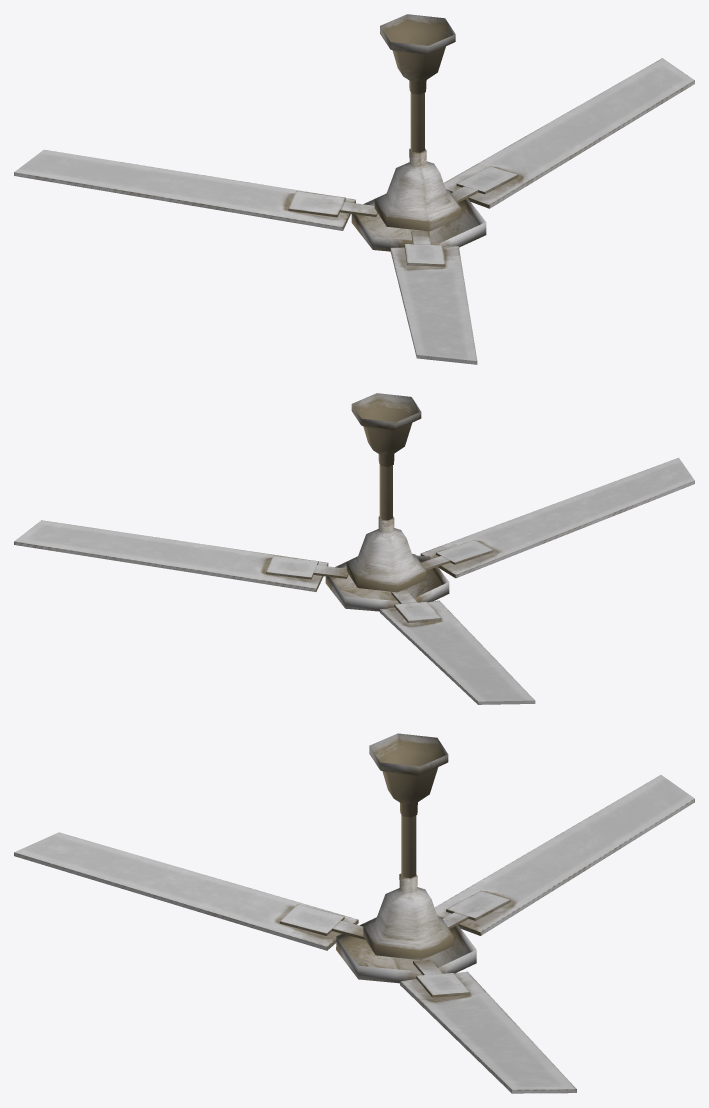
Rendered from Kipas_atap.fbx.
3 views of the same model, one above another, from view 1: azimuth 30°, elevation 25°; view 2: azimuth 150°, elevation 25°; view 3: azimuth 270°, elevation 25° (orthographic). The views are drawn at different scales.
Visible parts, largest first — view 1: kipas, atas, mesin; view 2: kipas, atas, mesin; view 3: kipas, atas, mesin.
Part boxes in pixels (x1,y1,x2,y2): kipas: (14,58,694,364); atas: (380,14,455,152); mesin: (374,148,461,231); kipas: (14,457,694,704); atas: (351,393,421,520); mesin: (346,516,426,592); kipas: (14,775,694,1093); atas: (369,733,448,878); mesin: (363,873,453,960).
Size of the model in its own units: 9239 by 3103 by 8563.
1 material, 1 textured.
